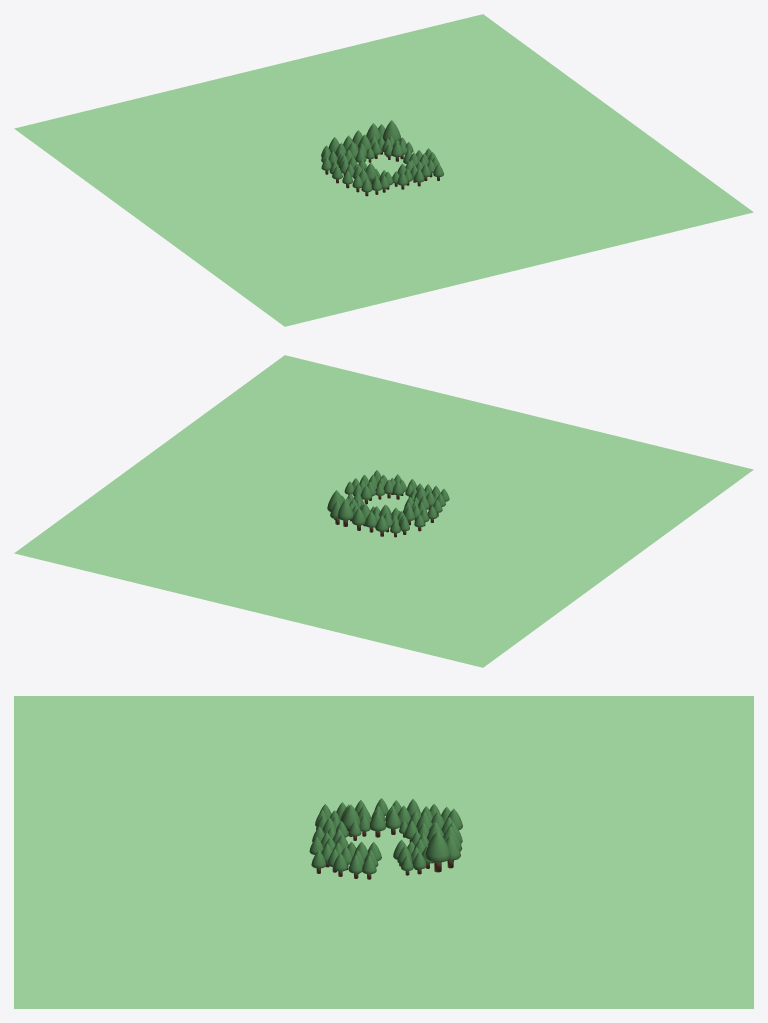
The model's file is Start Area.glb.
The picture shows the model from 3 angles, top to bottom: view 1: azimuth 30°, elevation 25°; view 2: azimuth 150°, elevation 25°; view 3: azimuth 270°, elevation 25°; orthographic projection. The views are drawn at different scales.
Parts seen in each view (by area): view 1: Ground; view 2: Ground; view 3: Ground, Placeholder Tree.379.
Part boxes in pixels (x1=…): Ground: x1=14, y1=14, x2=753, y2=326; Ground: x1=14, y1=355, x2=753, y2=667; Ground: x1=14, y1=696, x2=753, y2=1008; Placeholder Tree.379: x1=425, y1=831, x2=450, y2=872.
Size of the model in its own units: 160 by 9.78 by 160.
3 materials, 1 textured.
